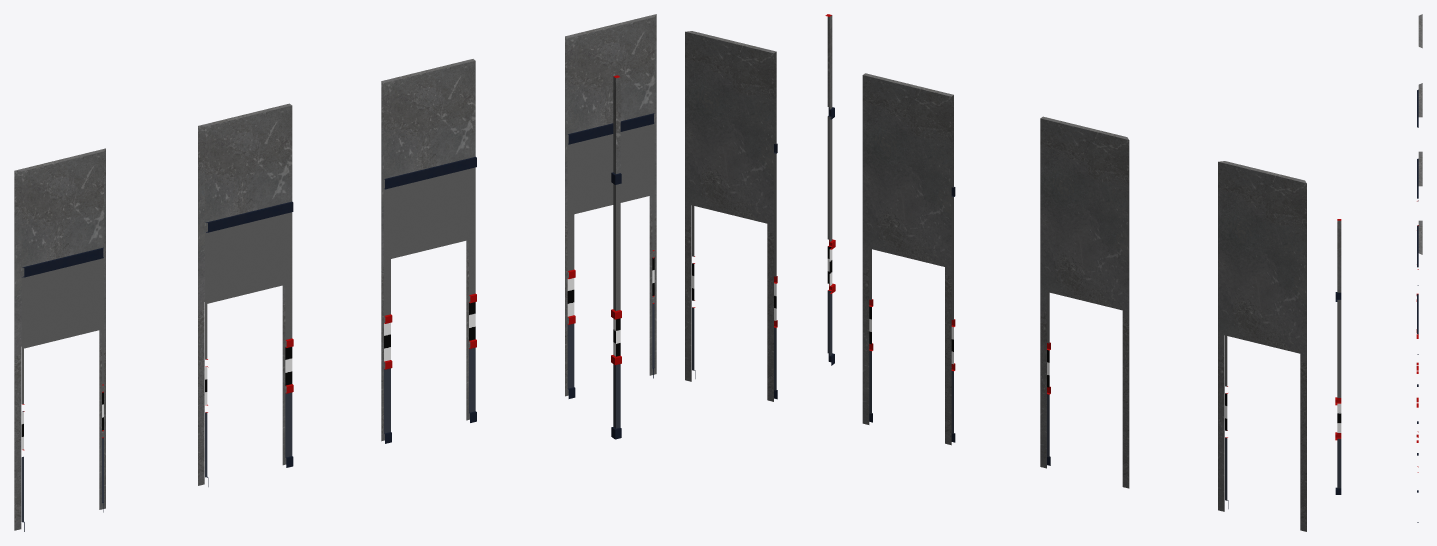
Rendered from TallWallDoor.fbx.
3 renders of one model, left to right at view 1: azimuth 30°, elevation 25°; view 2: azimuth 150°, elevation 25°; view 3: azimuth 270°, elevation 25°, orthographic. The views are drawn at different scales.
Parts seen in each view (by area): view 1: TallWall_Door_LeftCorner, TallWall_Door_Straight, TallWall_Door_BothCorner, TallWall_Door_RightCorner, TallWall_Door_InnerCorner; view 2: TallWall_Door_RightCorner, TallWall_Door_Straight, TallWall_Door_LeftCorner, TallWall_Door_BothCorner, TallWall_Door_InnerCorner; view 3: TallWall_Door_InnerCorner, TallWall_Door_Straight, TallWall_Door_RightCorner, TallWall_Door_LeftCorner, TallWall_Door_BothCorner.
Part boxes in pixels (left/top/right/bottom): TallWall_Door_LeftCorner: left=198, top=103, right=293, bottom=486; TallWall_Door_Straight: left=381, top=59, right=476, bottom=443; TallWall_Door_BothCorner: left=14, top=148, right=105, bottom=531; TallWall_Door_RightCorner: left=565, top=14, right=656, bottom=398; TallWall_Door_InnerCorner: left=611, top=75, right=621, bottom=439; TallWall_Door_RightCorner: left=685, top=31, right=777, bottom=401; TallWall_Door_Straight: left=862, top=73, right=955, bottom=445; TallWall_Door_LeftCorner: left=1040, top=116, right=1129, bottom=488; TallWall_Door_BothCorner: left=1218, top=161, right=1306, bottom=531; TallWall_Door_InnerCorner: left=825, top=14, right=835, bottom=365; TallWall_Door_InnerCorner: left=1335, top=219, right=1341, bottom=494; TallWall_Door_Straight: left=1416, top=151, right=1422, bottom=455; TallWall_Door_RightCorner: left=1416, top=220, right=1422, bottom=522; TallWall_Door_LeftCorner: left=1416, top=83, right=1422, bottom=386; TallWall_Door_BothCorner: left=1417, top=14, right=1422, bottom=285.
Bounding box in the file's own units: 70 × 37.5 × 10.75.
